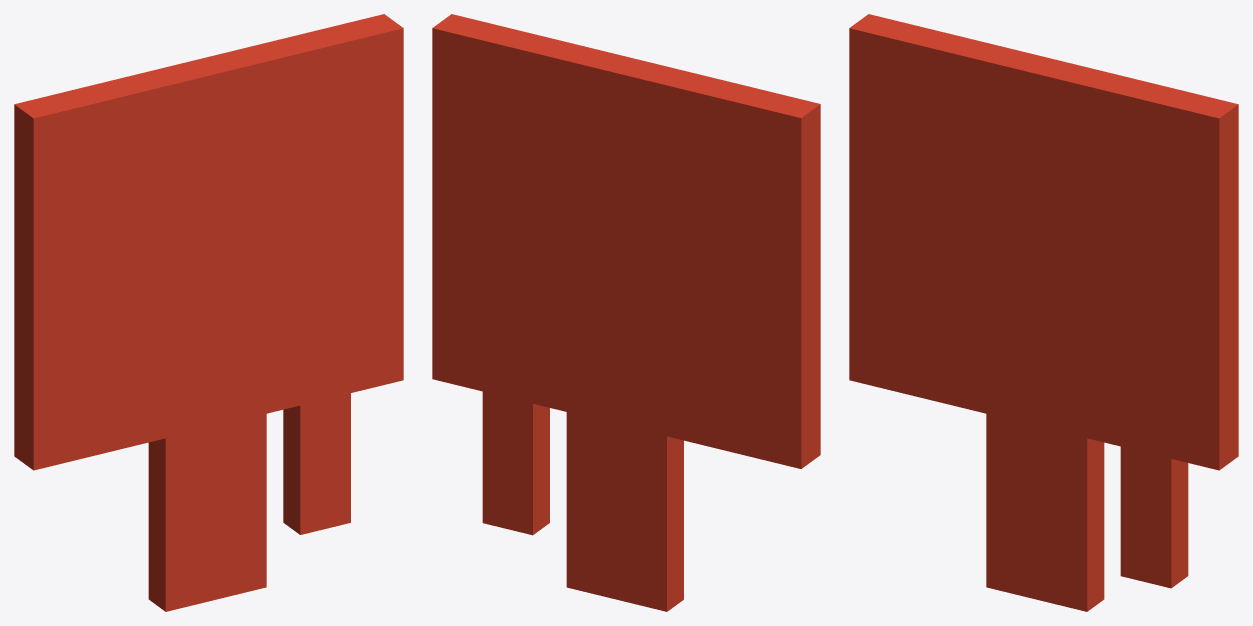
Rendered from fx_splat.glb.
3 renders of one model, left to right at view 1: azimuth 30°, elevation 25°; view 2: azimuth 150°, elevation 25°; view 3: azimuth 330°, elevation 25°, orthographic.
Visible parts, largest first — view 1: fx_splat; view 2: fx_splat; view 3: fx_splat.
Part boxes in pixels (<box>): fx_splat: <box>14,14,403,611</box>; fx_splat: <box>432,14,820,611</box>; fx_splat: <box>849,14,1238,611</box>.
Bounding box in the file's own units: 0.22 × 0.3 × 0.02.
Materials: 1 (1 with a texture image).
